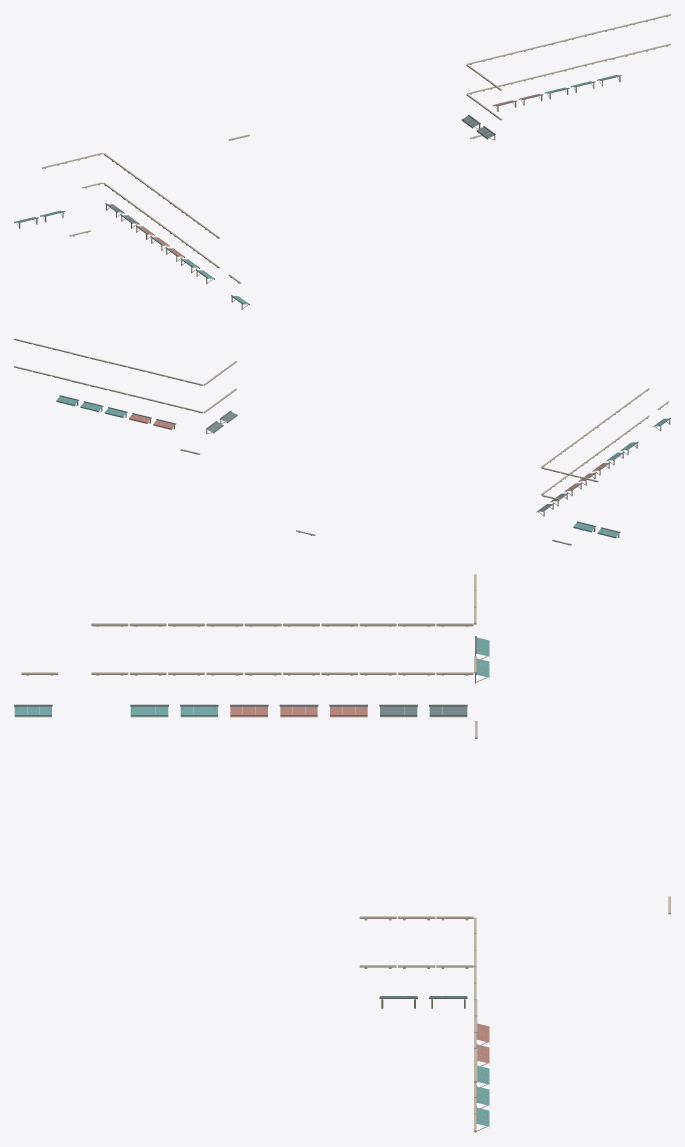
The model's file is club.glb.
3 renders of one model, top to bottom at view 1: azimuth 30°, elevation 25°; view 2: azimuth 150°, elevation 25°; view 3: azimuth 270°, elevation 25°, orthographic. The views are drawn at different scales.
Visible parts, largest first — view 1: stone, enamel, bronze; view 2: stone, canvas, enamel, bronze, wine; view 3: stone, canvas, enamel, wine, welt, bronze.
Part boxes in pixels (x1,y1,x2,y2): stone: (41,14,670,283); enamel: (17,75,621,304); bronze: (16,66,620,309); stone: (14,338,669,545); canvas: (56,396,667,537); enamel: (59,395,670,532); bronze: (14,340,670,545); wine: (129,414,607,491); stone: (21,574,670,1131); canvas: (14,637,489,1126); enamel: (14,636,489,1123); wine: (230,706,489,1063); welt: (15,642,489,1128); bronze: (22,626,487,1132).
Size of the model in its own units: 75.02 by 8.42 by 39.57.
